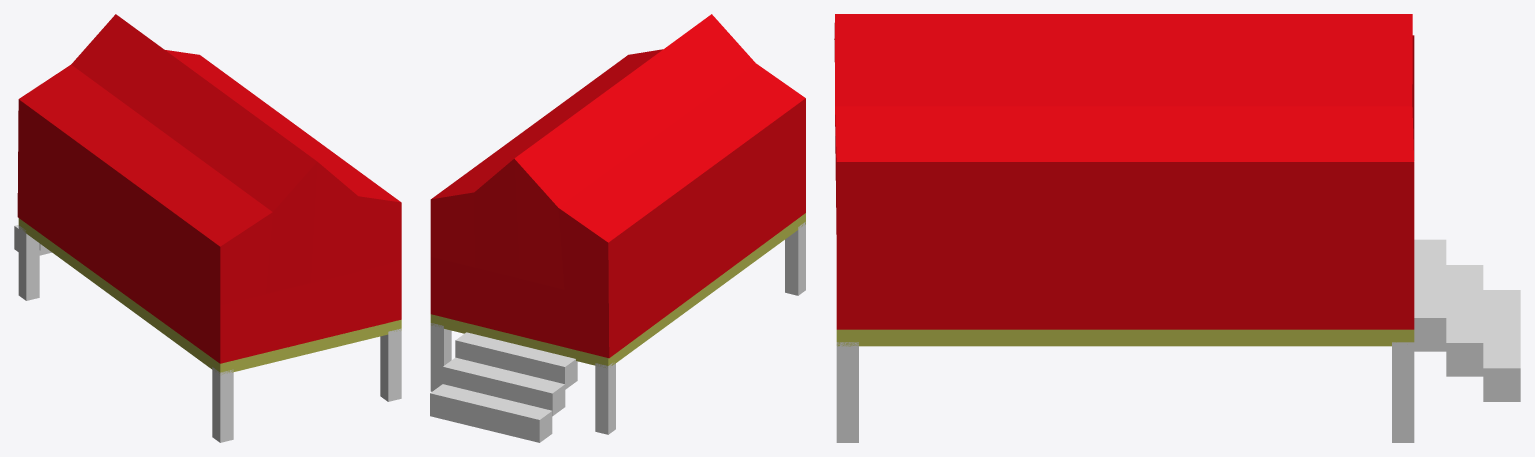
The model's file is Rumah panggung 1.fbx.
3 renders of one model, left to right at view 1: azimuth 30°, elevation 25°; view 2: azimuth 150°, elevation 25°; view 3: azimuth 270°, elevation 25°, orthographic. The views are drawn at different scales.
Parts seen in each view (by area): view 1: Cube.001; view 2: Cube.001; view 3: Cube.001.
Part boxes in pixels (box(x1,y1,x2,y2)): Cube.001: box(14, 14, 401, 442); Cube.001: box(430, 14, 805, 442); Cube.001: box(834, 14, 1520, 442).
Bounding box in the file's own units: 326 × 441 × 741.
